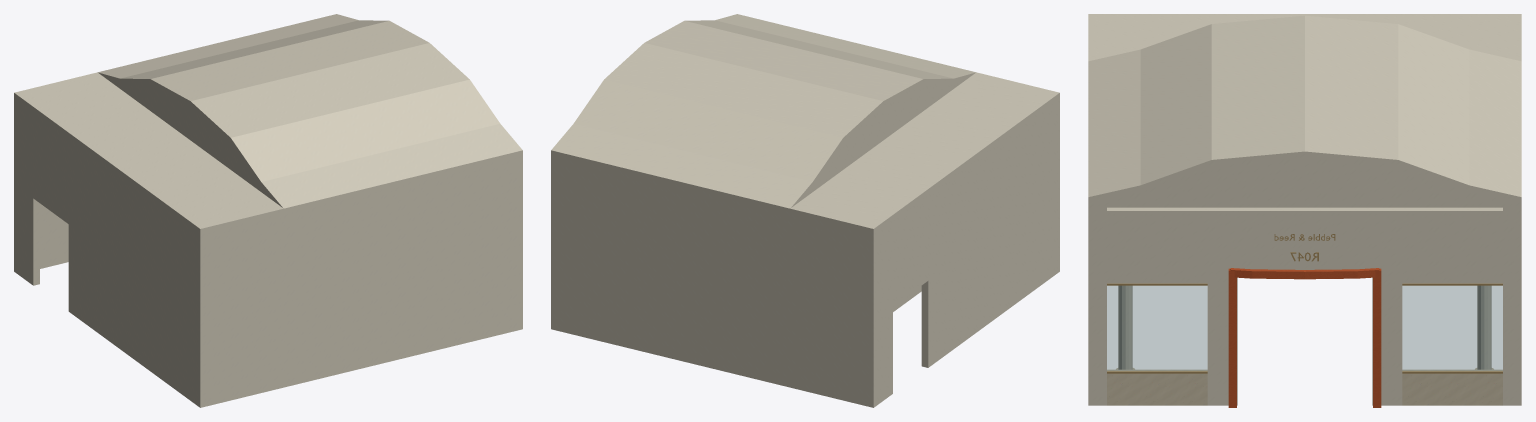
The model's file is SHOP_D09_P100_A288__shell.glb.
The picture shows the model from 3 angles, left to right: view 1: azimuth 30°, elevation 25°; view 2: azimuth 150°, elevation 25°; view 3: azimuth 270°, elevation 25°; orthographic projection. The views are drawn at different scales.
Visible parts, largest first — view 1: SHOP_D09_P100_A288__shell__ivory_enamel; view 2: SHOP_D09_P100_A288__shell__ivory_enamel; view 3: SHOP_D09_P100_A288__shell__ivory_enamel, SHOP_D09_P100_A288__shell__shop_glass, SHOP_D09_P100_A288__shell__warm_stone, SHOP_D09_P100_A288__shell__retail_terracotta_enamel, SHOP_D09_P100_A288__shell__champagne_metal.
Boxes of the visible parts, left/top/right/bottom form: SHOP_D09_P100_A288__shell__ivory_enamel: left=14, top=14, right=522, bottom=407; SHOP_D09_P100_A288__shell__ivory_enamel: left=551, top=14, right=1059, bottom=407; SHOP_D09_P100_A288__shell__ivory_enamel: left=1088, top=14, right=1521, bottom=405; SHOP_D09_P100_A288__shell__shop_glass: left=1107, top=286, right=1502, bottom=370; SHOP_D09_P100_A288__shell__warm_stone: left=1107, top=368, right=1502, bottom=405; SHOP_D09_P100_A288__shell__retail_terracotta_enamel: left=1228, top=268, right=1381, bottom=407; SHOP_D09_P100_A288__shell__champagne_metal: left=1107, top=234, right=1502, bottom=373.
Bounding box in the file's own units: 11.86 × 7.5 × 11.6.
6 materials, 4 textured.
